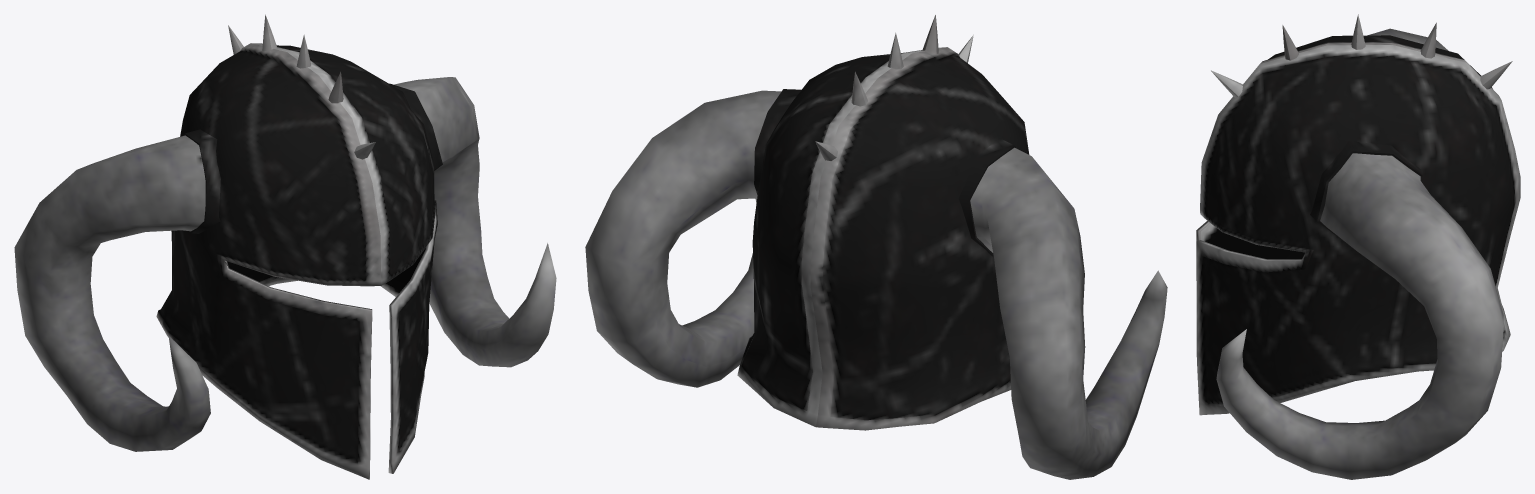
3 views of the same model, side by side, from view 1: azimuth 30°, elevation 25°; view 2: azimuth 150°, elevation 25°; view 3: azimuth 270°, elevation 25° (orthographic). The views are drawn at different scales.
Visible parts, largest first — view 1: KharonHelm; view 2: KharonHelm; view 3: KharonHelm.
Boxes of the visible parts, bbox=[...] form: KharonHelm: bbox=[14, 14, 556, 479]; KharonHelm: bbox=[585, 15, 1167, 479]; KharonHelm: bbox=[1196, 14, 1520, 479].
Size of the model in its own units: 38.21 by 31.44 by 23.38.
1 material, 1 textured.
